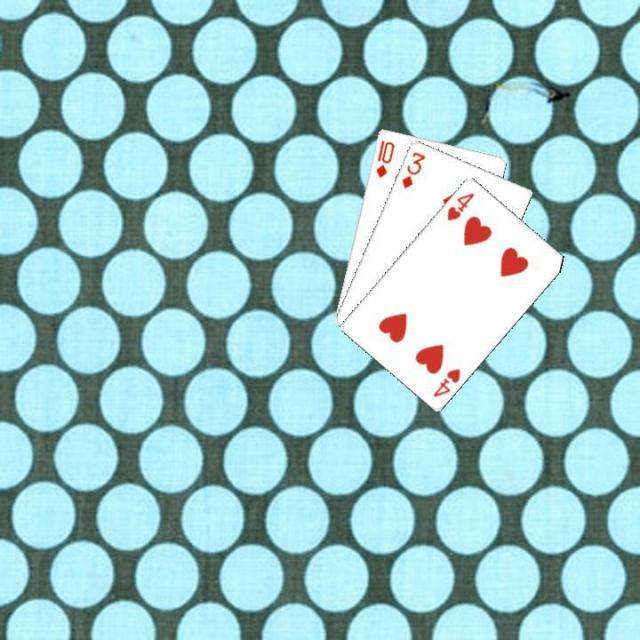10D: (372, 136, 396, 180)
3D: (398, 147, 428, 190)
4H: (442, 188, 477, 222), (430, 364, 462, 398)
